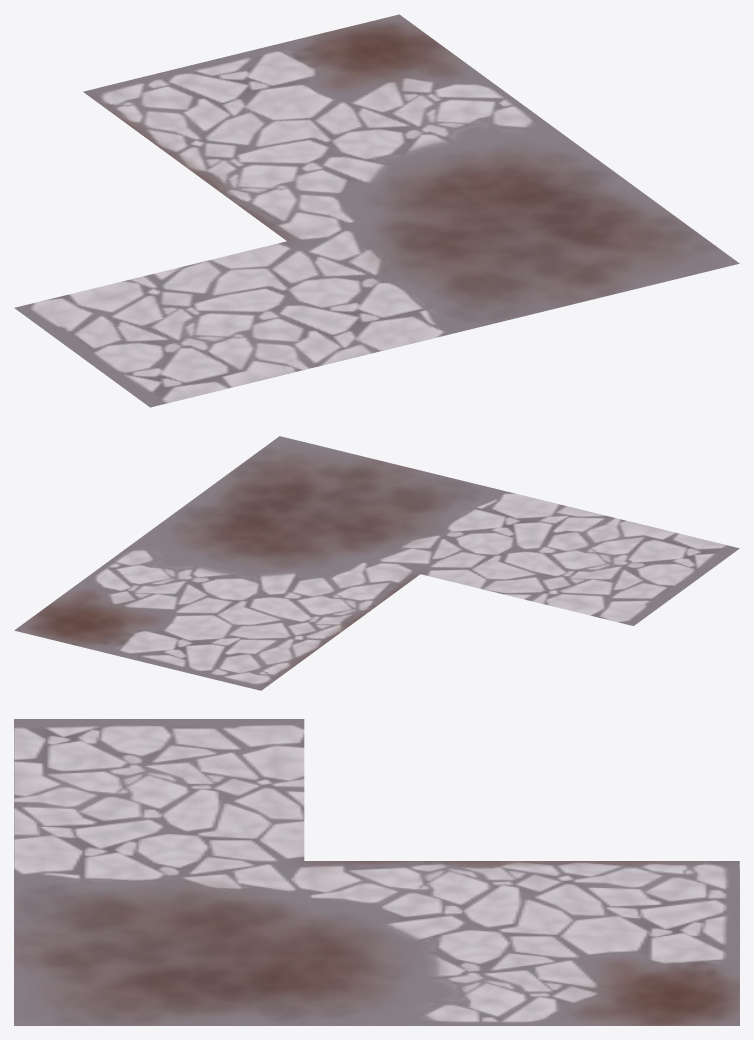
The model's file is ground_L.fbx.
3 renders of one model, top to bottom at view 1: azimuth 30°, elevation 25°; view 2: azimuth 150°, elevation 25°; view 3: azimuth 270°, elevation 25°, orthographic. The views are drawn at different scales.
Parts seen in each view (by area): view 1: polySurface212; view 2: polySurface212; view 3: polySurface212.
Boxes of the visible parts, <box> form: polySurface212: <box>14,14,739,407</box>; polySurface212: <box>14,436,739,690</box>; polySurface212: <box>14,719,739,1025</box>.
Bounding box in the file's own units: 3000 × 1.53e-05 × 3000.
